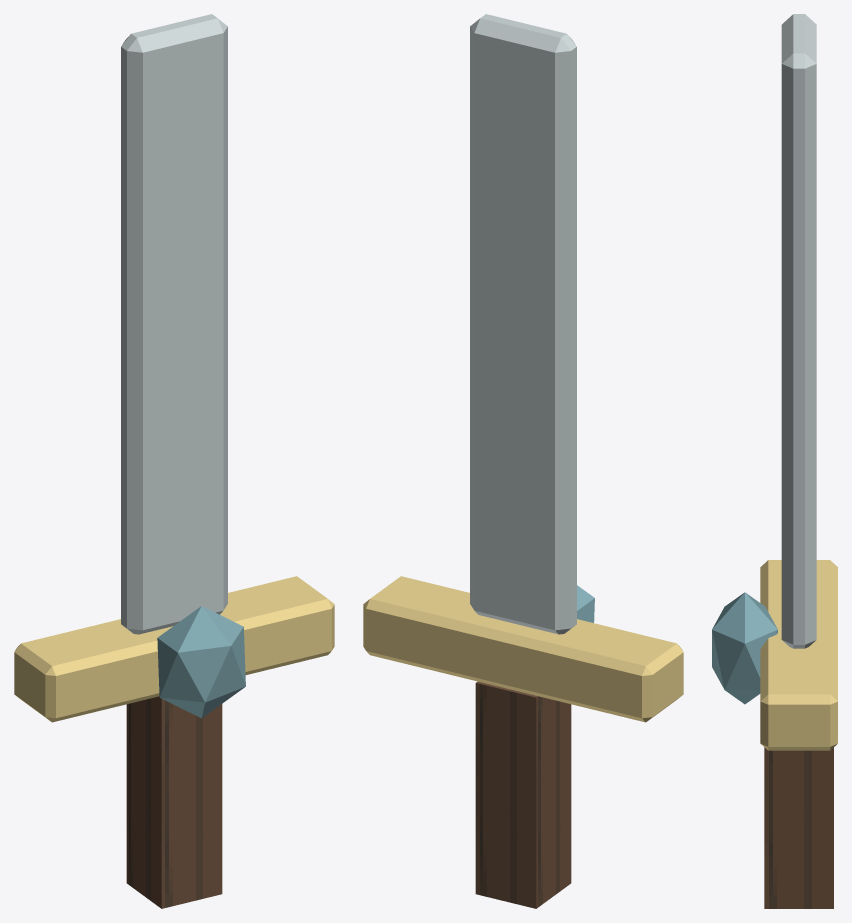
File: sword_tier2.glb
The picture shows the model from 3 angles, left to right: view 1: azimuth 30°, elevation 25°; view 2: azimuth 150°, elevation 25°; view 3: azimuth 270°, elevation 25°; orthographic projection.
Parts seen in each view (by area): view 1: Blade.001, Guard.001, Grip.001, Gem; view 2: Blade.001, Guard.001, Grip.001; view 3: Blade.001, Guard.001, Grip.001, Gem.
Boxes of the visible parts, x1=… form: Blade.001: x1=121, y1=14, x2=227, y2=634; Guard.001: x1=14, y1=576, x2=334, y2=722; Grip.001: x1=126, y1=696, x2=222, y2=908; Gem: x1=157, y1=606, x2=245, y2=718; Blade.001: x1=470, y1=14, x2=576, y2=634; Guard.001: x1=363, y1=576, x2=683, y2=722; Grip.001: x1=475, y1=681, x2=571, y2=908; Blade.001: x1=781, y1=14, x2=816, y2=648; Guard.001: x1=760, y1=560, x2=837, y2=750; Grip.001: x1=764, y1=747, x2=833, y2=908; Gem: x1=712, y1=592, x2=777, y2=704.
Bounding box in the file's own units: 0.43 × 1.23 × 0.1625.
4 materials, 1 textured.
